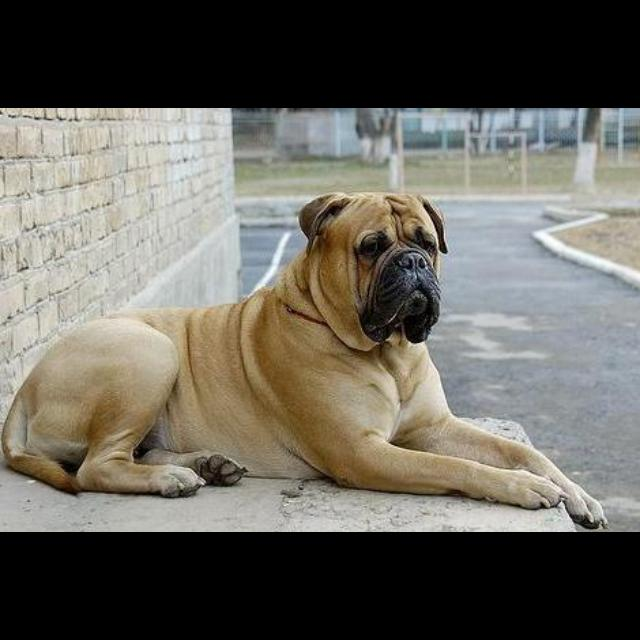mastiff: (1, 191, 609, 531)
